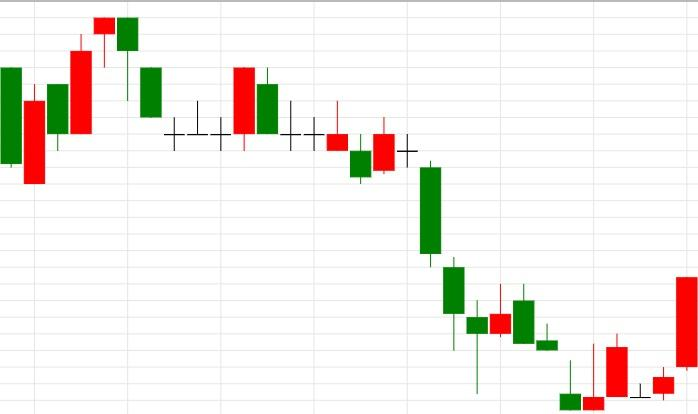bearish_engulfing_fall: (23, 17, 139, 184)
inverse_hammer_rise: (512, 283, 605, 412)
